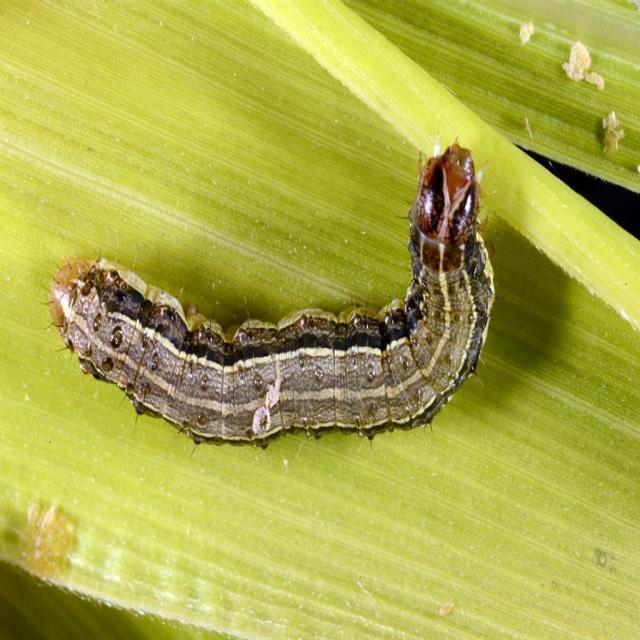Plaga: (39, 129, 500, 470)
